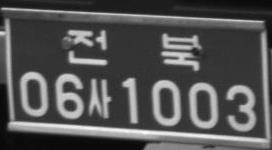0: (187, 80, 219, 129), (18, 70, 49, 118), (151, 78, 182, 126)
1: (118, 77, 147, 124)
3: (225, 84, 257, 132)
6: (54, 72, 84, 119)
사: (86, 77, 111, 118)
전북_D: (66, 29, 201, 72)
